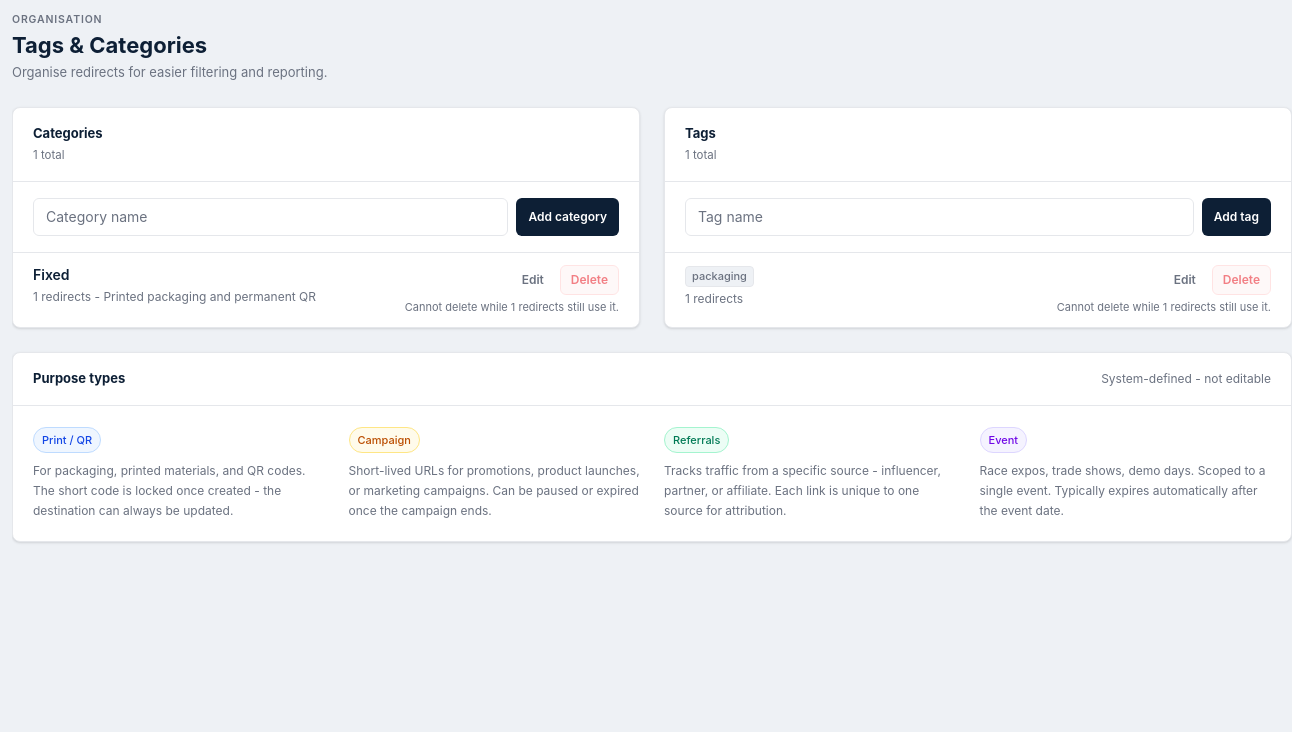
Test: AdminTagsPage › opens a rename field only after clicking Edit
Click the button with aria-label "Rename category Fixed" at (533, 280), box [514, 266, 552, 294]
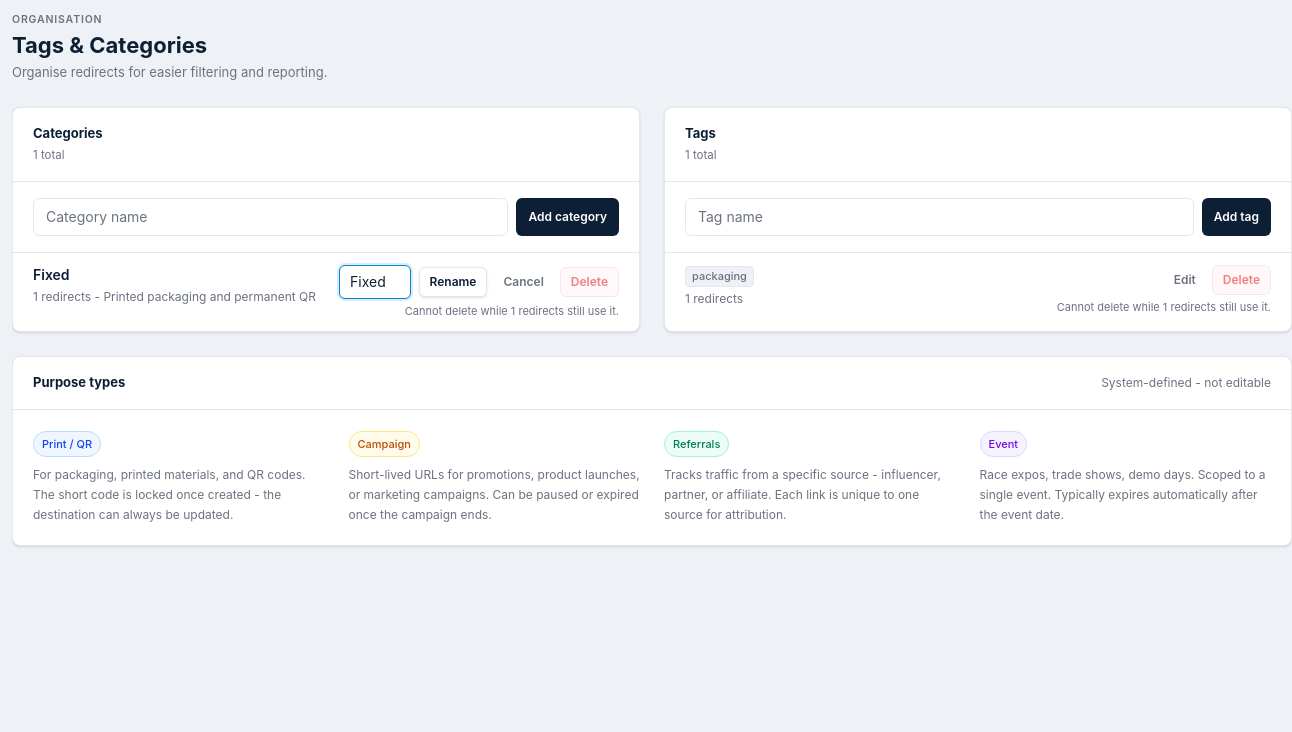
Expected: the field named "Rename category Fixed" holds "Fixed", [339, 264, 411, 298]
Expected: the button "Rename" is shown, [419, 266, 488, 296]
Expected: the button "Cancel" is shown, [496, 268, 552, 296]
